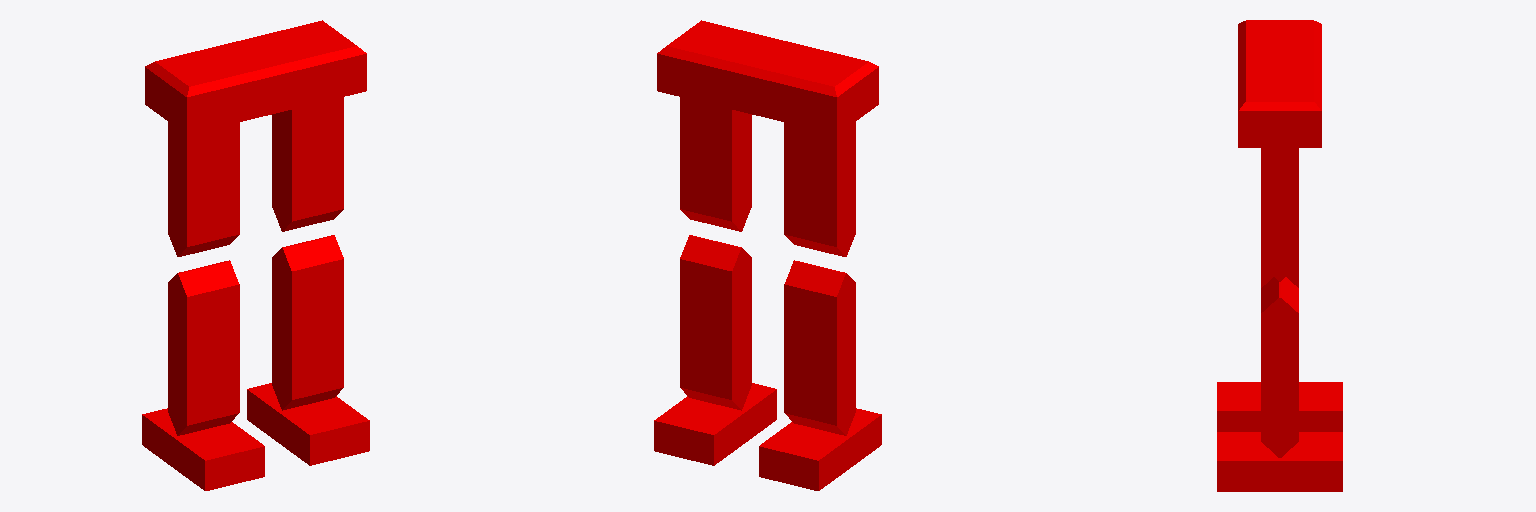
The robot description file, URDF, robot "myTestRobot":
<?xml version="1.0"?>
<robot name="myTestRobot">
	<link name ="base_waist">
            <inertial>
		    <origin xyz="0 0 0" rpy="0 0 0"/>
	                      <mass value="1.0"/>
	                    <inertia ixx="1.0" ixy="0.0" ixz="0.0" iyy="1.0" iyz="0.0" izz="1.0"/>
              </inertial>
	      <visual>
		            <geometry>
				                  <mesh filename="package://testrobot_control/mesh/robot_waist.stl"/>
						        </geometry>
							      <origin xyz="0 0 0" rpy="0 0 0"/>
							             <material name = "red">
									            <color rgba="1.0 0.0 0.0 2.0"/>
										          </material>
											      </visual>
    <collision>
                                <geometry>
					<mesh filename="package://testrobot_control/mesh/robot_waist.stl"/>	
				</geometry>
  </collision>
										      </link>

    <gazebo reference="base_waist">
	    <material>Gazebo/Gray</material>
	    <mu1 value="0.5" />
	    <mu2 value="0.5" />
    </gazebo>


     <joint name="upperLegL_joint" type="revolute">
     <parent link="base_waist"/>
     <child link="upperLegL"/>
     <origin xyz="-0.072 0 0" rpy="0 0 0"/>
     <axis xyz="1 0 0" />
     <limit lower="-1.57" upper="1.57" effort="10000" velocity="6.0"/>
     <friction friction="0.01"/>
     <dynamics damping="0.1"/>
     </joint>

     <transmission name="upperLegL_trans">
	     <type>transmission_interface/SimpleTransmission</type>
	         <joint name="upperLegL_joint">
			 <hardwareInterface>hardware_interface/PositionJointInterface</hardwareInterface>
			           </joint>
				   <actuator name="upperLegL_motor">
					   <hardwareInterface>PositionJointInterface</hardwareInterface>
       <mechanismReduction>1</mechanismReduction>
      </actuator>
      </transmission>

      <link name ="upperLegL">
	         <inertial>
			 <origin xyz="0 0 0" rpy="0 0 0"/>
					                 <mass value="0.1"/>
							                 <inertia ixx="1.0" ixy="0.0" ixz="0.0" iyy="1.0" iyz="0.0" izz="1.0"/>
									         </inertial>


	      <visual>
      <geometry>
	      <mesh filename="package://testrobot_control/mesh/leg.stl"/>
      </geometry>
      <origin xyz="0 0 0" rpy="0 0 0"/>
       <material name = "red">
       <color rgba="1.0 0.0 0.0 2.0"/>
      </material>
    </visual>

    <collision>  
	    <geometry> 
		    <mesh filename="package://testrobot_control/mesh/leg.stl"/> 
    </geometry>   
    </collision> 
    </link>

    <gazebo reference="upperLegL">
	    <material>Gazebo/Gray</material>
	    <mu1 value="0.5"/>
	    <mu2 value="0.5"/>
    </gazebo>
    <joint name="lowerLegL_joint" type="revolute">
     <parent link="upperLegL"/>
     <child link="lowerLegL"/>
     <origin xyz="0 0 -0.235" rpy="0 0 0"/>
     <axis xyz="1 0 0" />
     <limit lower="-1.57" upper="1.57" effort="0.5" velocity="6.0"/>
     <friction friction="0.01"/>
     <dynamics damping="0.4"/>
    </joint>

    <link name ="lowerLegL">
	   
	           <inertial>
			   <origin xyz="0 0 0" rpy="0 0 0"/>
					                   <mass value="0.1"/>
							                   <inertia ixx="1.0" ixy="0.0" ixz="0.0" iyy="1.0" iyz="0.0" izz="1.0"/>
									           </inertial>


	    <visual>
		      <geometry>
			                    <mesh filename="package://testrobot_control/mesh/leg.stl"/>
					          </geometry>
						        <origin xyz="0 0 0" rpy="0 0 0"/>
							       <material name = "red">
								              <color rgba="1.0 0.0 0.0 2.0"/>
									            </material>
									    </visual>
									    <collision>                                                                     

										    <geometry> 
											    <mesh filename="package://testrobot_control/mesh/leg.stl"/> 
										    </geometry>
										       </collision>   
									       </link>

    <joint name="footL_joint" type="revolute">
     <parent link="lowerLegL"/>
     <child link="footL"/>
     <origin xyz="0 0 -0.235" rpy="0 0 0"/>
     <axis xyz="1 0 0"/>
     <limit lower="-1.57" upper="1.57" effort="0.5" velocity="6.0"/>
     <friction friction="0.01"/>
     <dynamics damping="0.4"/>
    </joint>

    <link name="footL">
	            <inertial>
			    <origin xyz="0 0 0" rpy="0 0 0"/>
					                    <mass value="0.1"/>
							                    <inertia ixx="1.0" ixy="0.0" ixz="0.0" iyy="1.0" iyz="0.0" izz="1.0"/>
									            </inertial>


	         <visual>
			       <geometry>
				                     <mesh filename="package://testrobot_control/mesh/robot_foot.stl"/>
						           </geometry>
							         <origin xyz="0 0 0" rpy="0 0 0"/>
								        <material name = "red">
										       <color rgba="1.0 0.0 0.0 2.0"/>
										             </material>
										     </visual>
										     <collision>                                                                                                      
											     <geometry>                                                                                                                                                                                                                             
												     <mesh filename="package://testrobot_control/mesh/robot_foot.stl"/>                                                                                                                                                     
											     </geometry>                                                                                                                                                                                                                   
										     </collision>   
    </link>

    <joint name="upperLegR_joint" type="revolute">
     <parent link="base_waist"/>
     <child link="upperLegR"/>
     <origin xyz="0.072 0 0" rpy="0 0 0"/>
     <axis xyz="1 0 0" />
     <limit lower="-1.57" upper="1.57" effort="0.5" velocity="6.0"/>
     <friction friction="0.01"/>
     <dynamics damping="0.4"/>
    </joint>

    <link name ="upperLegR">
         <inertial>
		 <origin xyz="0 0 0}" rpy="0 0 0"/>
		 <mass value="0.1"/>
                <inertia ixx="1.0" ixy="0.0" ixz="0.0" iyy="1.0" iyz="0.0" izz="1.0"/>
        </inertial>

 	
         <visual>
		       <geometry>
			       <mesh filename="package://testrobot_control/mesh/leg.stl"/>
					           </geometry>
						         <origin xyz="0 0 0" rpy="0 0 0"/>
							        <material name = "red">
									       <color rgba="1.0 0.0 0.0 2.0"/>
									             </material>
									     </visual>
    <collision>                                                                                                                                                                                                                             <geometry>                                                                                                                                                                                                                              <mesh filename="package://testrobot_control/mesh/leg.stl"/>                                                                                                                                                     </geometry>                                                                                                                                                                                                                     </collision>   
    </link>

    <joint name="lowerLegR_joint" type="revolute">
     <parent link="upperLegR"/>
     <child link="lowerLegR"/>
     <origin xyz="0 0 -0.235" rpy="0 0 0"/>
     <axis xyz="1 0 0"/>
     <limit lower="-1.57" upper="1.57" effort="0.5" velocity="6.0"/>
     <friction friction="0.01"/>
     <dynamics damping="0.4"/>
    </joint>

    <link name="lowerLegR">
         <inertial>
		 <origin xyz="0 0 0" rpy="0 0 0"/>
		                     <mass value="0.1"/>
		                       <inertia ixx="1.0" ixy="0.0" ixz="0.0" iyy="1.0" iyz="0.0" izz="1.0"/>
		          </inertial>


	    <visual>
	       <geometry>
	                     <mesh filename="package://testrobot_control/mesh/leg.stl"/>
		           </geometry>
		         <origin xyz="0 0 0" rpy="0 0 0"/>
		        <material name = "red">
			       <color rgba="1.0 0.0 0.0 2.0"/>
		             </material>
		     </visual>  
       <collision>                                                                                                                                                                                                                             <geometry>                                                                                                                                                                                                                              <mesh filename="package://testrobot_control/mesh/leg.stl"/>                                                                                                                                                     </geometry>                                                                                                                                                                                                                     </collision>   
			 </link>

    <joint name="footR_joint" type="revolute">
     <parent link="lowerLegR"/>
     <child link="footR"/>
     <origin xyz="0 0 -0.235" rpy="0 0 0"/>
     <axis xyz="1 0 0"/>
     <limit lower="-1.57" upper="1.57" effort="0.5" velocity="6.0"/>
     <friction friction="0.01"/>
     <dynamics damping="0.4"/>
    </joint>

    <link name="footR">
         <inertial>
		 <origin xyz="0 0 0" rpy="0 0 0"/>
		                    <mass value="0.1"/>
		                       <inertia ixx="1.0" ixy="0.0" ixz="0.0" iyy="1.0" iyz="0.0" izz="1.0"/>
		           </inertial>


	    <visual>
		      <geometry>
			                    <mesh filename="package://testrobot_control/mesh/robot_foot.stl"/>
					          </geometry>
						        <origin xyz="0 0 0" rpy="0 0 0"/>
							       <material name = "red">
								              <color rgba="1.0 0.0 0.0 2.0"/>
									            </material>
										        </visual>
									    <collision>                                                                                                                                                                                                                             <geometry>                                                                                                                                                                                                                              <mesh filename="package://testrobot_control/mesh/robot_foot.stl"/>                                                                                                                                                     </geometry>                                                                                                                                                                                                                     </collision>       
										</link>
  <gazebo>
	      <plugin name="gazebo_ros_control" filename="libgazebo_ros_control.so">
		            <robotNamespace>/test_robot</robotNamespace>
			        </plugin>
				  </gazebo>
</robot>

--- Facts derived from the render (not from the file) ---
Views: 3 orthographic renders of the robot side by side, from view 1: azimuth 30°, elevation 25°; view 2: azimuth 150°, elevation 25°; view 3: azimuth 270°, elevation 25°.
Model myTestRobot with 7 links and 6 joints (6 revolute), rooted at base_waist, posed every joint at zero.
Visible links, largest first — view 1: base_waist, lowerLegL, lowerLegR, upperLegL, upperLegR, footL, footR; view 2: base_waist, lowerLegL, lowerLegR, upperLegL, upperLegR, footL, footR; view 3: base_waist, footR, lowerLegR, upperLegR, footL.
Boxes of the visible links, <box> form: base_waist: <box>145,20,366,134</box>; lowerLegL: <box>168,260,239,435</box>; lowerLegR: <box>272,235,343,410</box>; upperLegL: <box>168,122,239,256</box>; upperLegR: <box>272,97,343,231</box>; footL: <box>142,408,264,490</box>; footR: <box>247,383,369,465</box>; base_waist: <box>657,20,878,134</box>; lowerLegL: <box>784,260,855,435</box>; lowerLegR: <box>680,235,751,410</box>; upperLegL: <box>784,122,855,256</box>; upperLegR: <box>680,97,751,231</box>; footL: <box>759,408,881,490</box>; footR: <box>654,383,776,465</box>; base_waist: <box>1238,20,1321,147</box>; footR: <box>1217,432,1342,491</box>; lowerLegR: <box>1261,277,1298,457</box>; upperLegR: <box>1261,148,1298,281</box>; footL: <box>1217,382,1342,431</box>.
Size in the robot's own frame: 0.2482 by 0.151 by 0.5193 metres.
Meshes: 3 distinct files referenced, 7 mesh visuals loaded (3 binary STL).